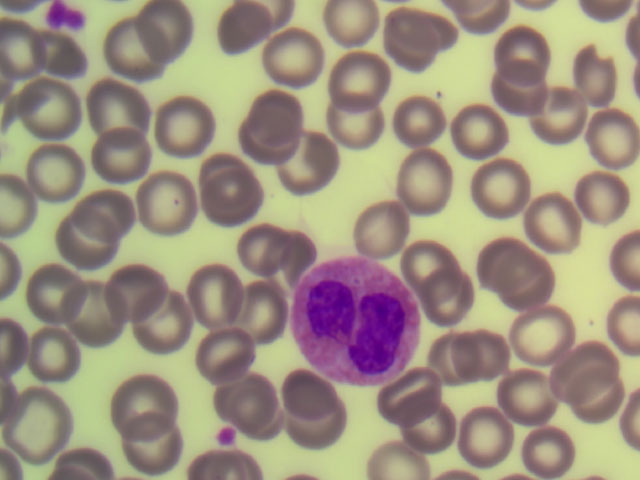Platelets: (44, 1, 85, 33), (213, 426, 240, 447)
RBC: (108, 368, 174, 433), (120, 427, 177, 480), (30, 35, 87, 87), (24, 77, 81, 129), (90, 84, 147, 136), (91, 130, 148, 182), (31, 144, 88, 196), (77, 184, 134, 236), (56, 215, 113, 267), (135, 180, 192, 232), (151, 101, 208, 153), (104, 14, 161, 66), (136, 6, 193, 58), (194, 147, 251, 199), (216, 182, 273, 234), (242, 123, 299, 175), (251, 88, 308, 140), (263, 27, 320, 79), (218, 1, 275, 53), (326, 96, 383, 148), (331, 59, 388, 111), (383, 13, 440, 65), (385, 90, 442, 142), (400, 156, 457, 208), (357, 203, 414, 255), (394, 234, 451, 286), (437, 282, 494, 334), (472, 234, 529, 286), (513, 267, 570, 319), (527, 206, 584, 258), (471, 158, 528, 210), (442, 100, 499, 152), (495, 72, 552, 124), (494, 28, 551, 80), (531, 90, 588, 142), (573, 50, 630, 102), (583, 113, 640, 165), (576, 172, 633, 224), (564, 336, 621, 388), (567, 369, 624, 421), (490, 365, 547, 417), (462, 406, 519, 458), (519, 424, 576, 476), (520, 311, 577, 363), (460, 328, 517, 380), (429, 331, 486, 383), (381, 367, 438, 419), (398, 398, 455, 450), (285, 401, 342, 453), (277, 370, 334, 422), (239, 375, 296, 427), (204, 363, 261, 415), (205, 332, 262, 384), (191, 263, 248, 315), (224, 288, 281, 340), (228, 216, 285, 268), (264, 226, 321, 278), (135, 302, 192, 354), (107, 264, 164, 316), (72, 284, 129, 336), (26, 261, 83, 313), (28, 325, 85, 377), (10, 387, 67, 439), (318, 1, 375, 52)
WBC: (293, 255, 416, 388)
